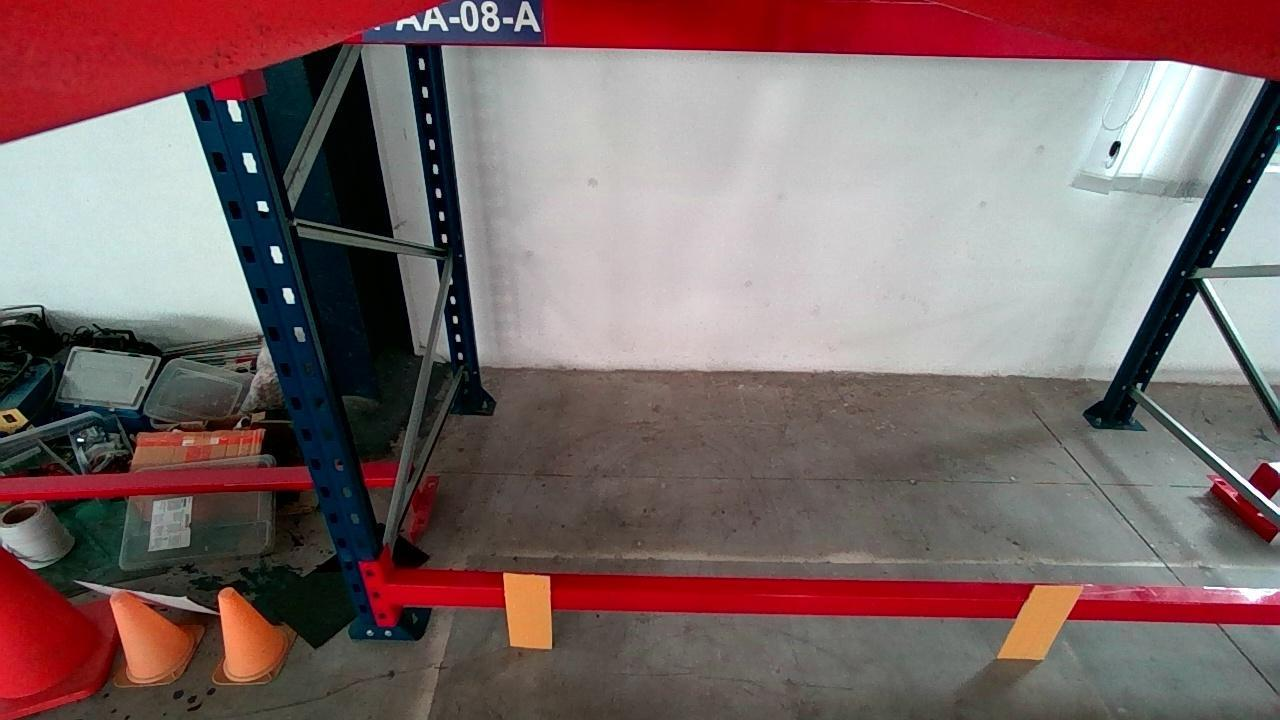h_rack: (349, 0, 1150, 59), (389, 579, 1280, 623)
orange_strip: (998, 583, 1086, 659), (503, 571, 555, 649)
